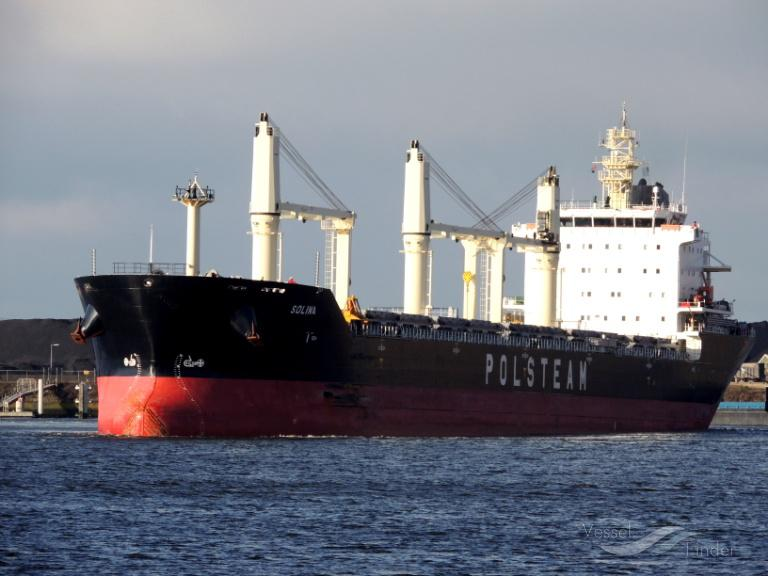OCR: (474, 336, 610, 403)
